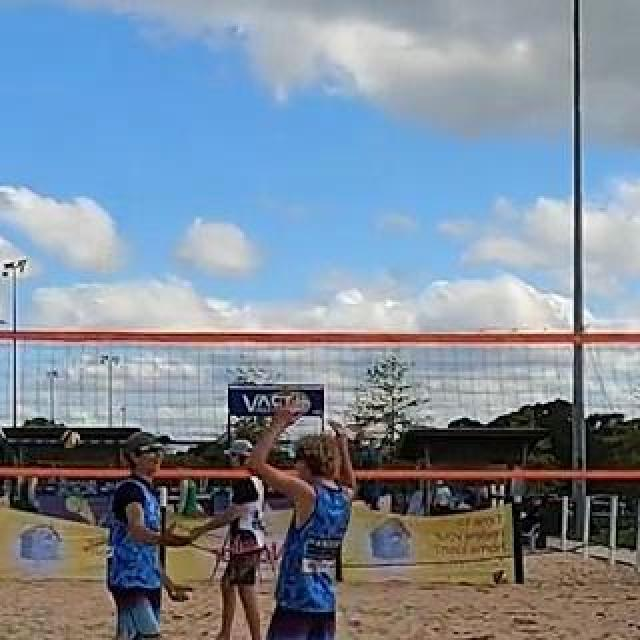volleyball: (59, 430, 81, 450), (492, 568, 508, 586)
